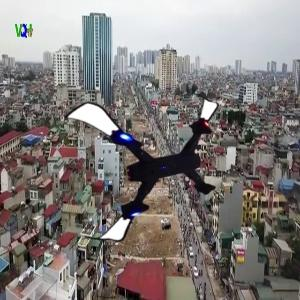drone: (66, 92, 226, 252)
